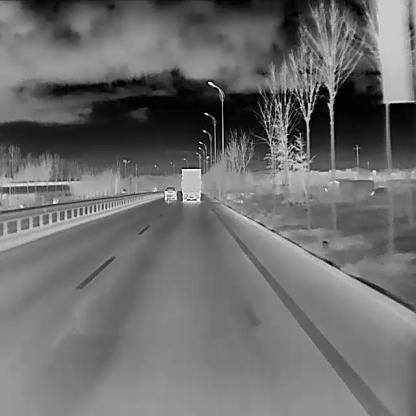car: (164, 186, 177, 200)
truck: (180, 167, 202, 202)
